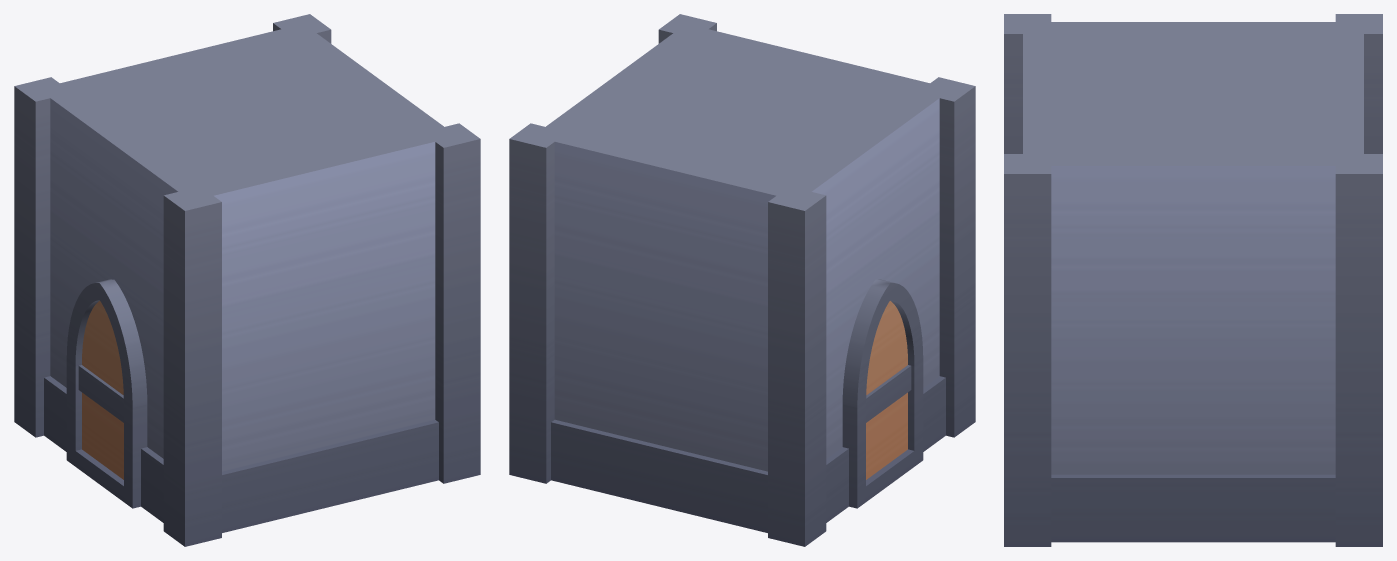
File: tower-square-mid-door.fbx
The picture shows the model from 3 angles, left to right: view 1: azimuth 30°, elevation 25°; view 2: azimuth 150°, elevation 25°; view 3: azimuth 270°, elevation 25°; orthographic projection. The views are drawn at different scales.
Parts seen in each view (by area): view 1: tower-square-mid-door; view 2: tower-square-mid-door; view 3: tower-square-mid-door.
Boxes of the visible parts, <box> form: tower-square-mid-door: <box>14,14,480,546</box>; tower-square-mid-door: <box>509,14,975,546</box>; tower-square-mid-door: <box>1004,14,1382,546</box>.
Bounding box in the file's own units: 0.93 × 0.93 × 1.01.
